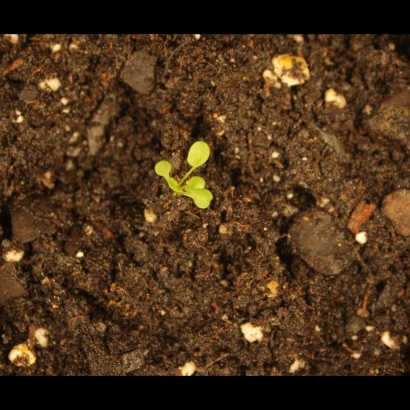leaf: (184, 139, 217, 169), (188, 192, 213, 220), (150, 157, 173, 180), (185, 174, 208, 197), (161, 174, 184, 197)
